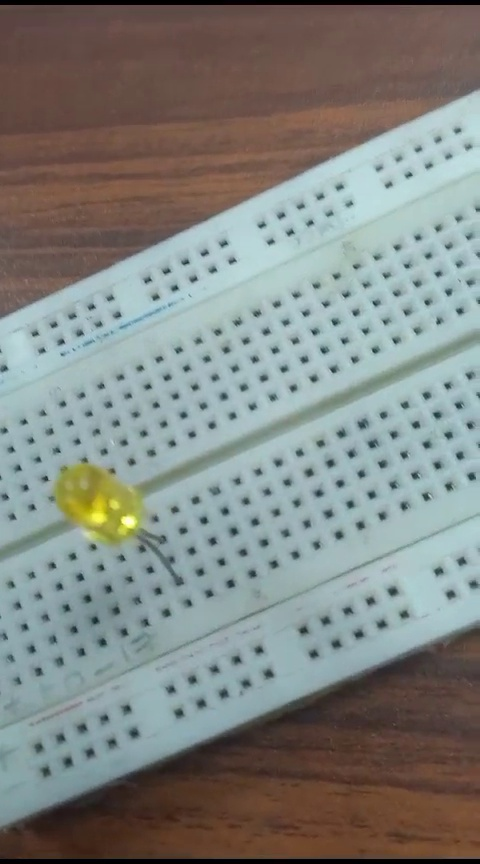LED: (36, 457, 211, 605)
